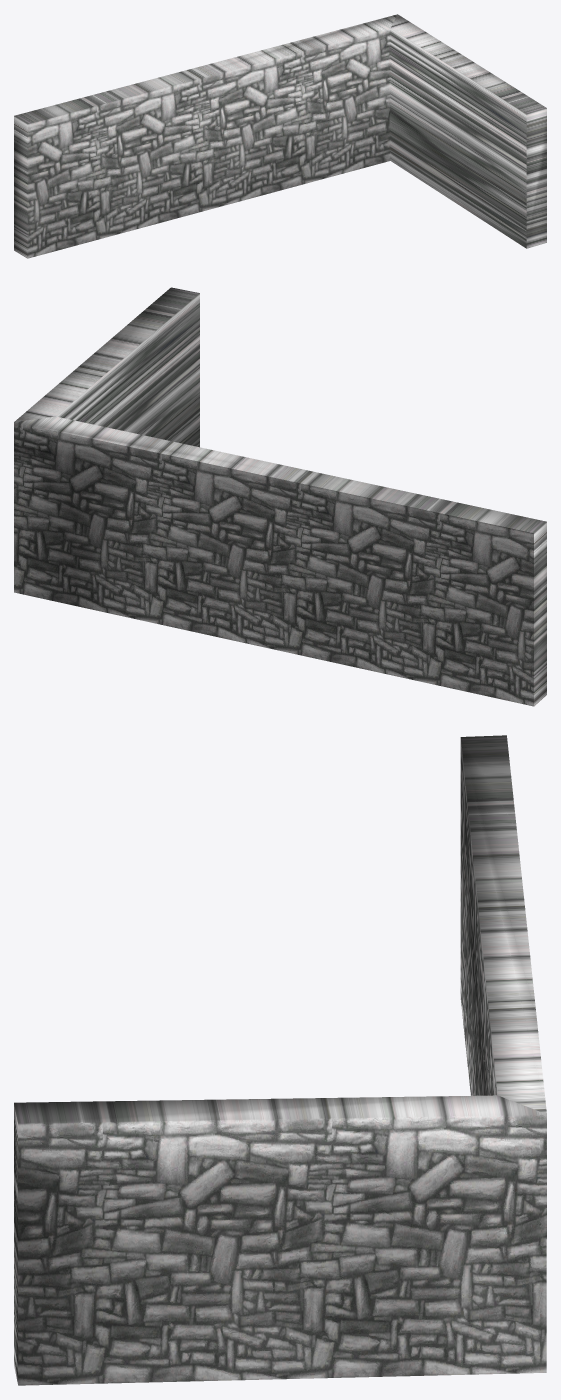
The model's file is HTOWN01_BAGENDRETAINWALL.fbx.
3 views of the same model, one above another, from view 1: azimuth 30°, elevation 25°; view 2: azimuth 150°, elevation 25°; view 3: azimuth 270°, elevation 25° (orthographic). The views are drawn at different scales.
Visible parts, largest first — view 1: HTOWN01_BAGENDRETAINWALL; view 2: HTOWN01_BAGENDRETAINWALL; view 3: HTOWN01_BAGENDRETAINWALL.
Part boxes in pixels (left/top/right/bottom): HTOWN01_BAGENDRETAINWALL: left=14, top=14, right=546, bottom=258; HTOWN01_BAGENDRETAINWALL: left=14, top=287, right=546, bottom=706; HTOWN01_BAGENDRETAINWALL: left=14, top=735, right=546, bottom=1385.
Bounding box in the file's own units: 64720 × 20434 × 37594.
Materials: 1 (1 with a texture image).
